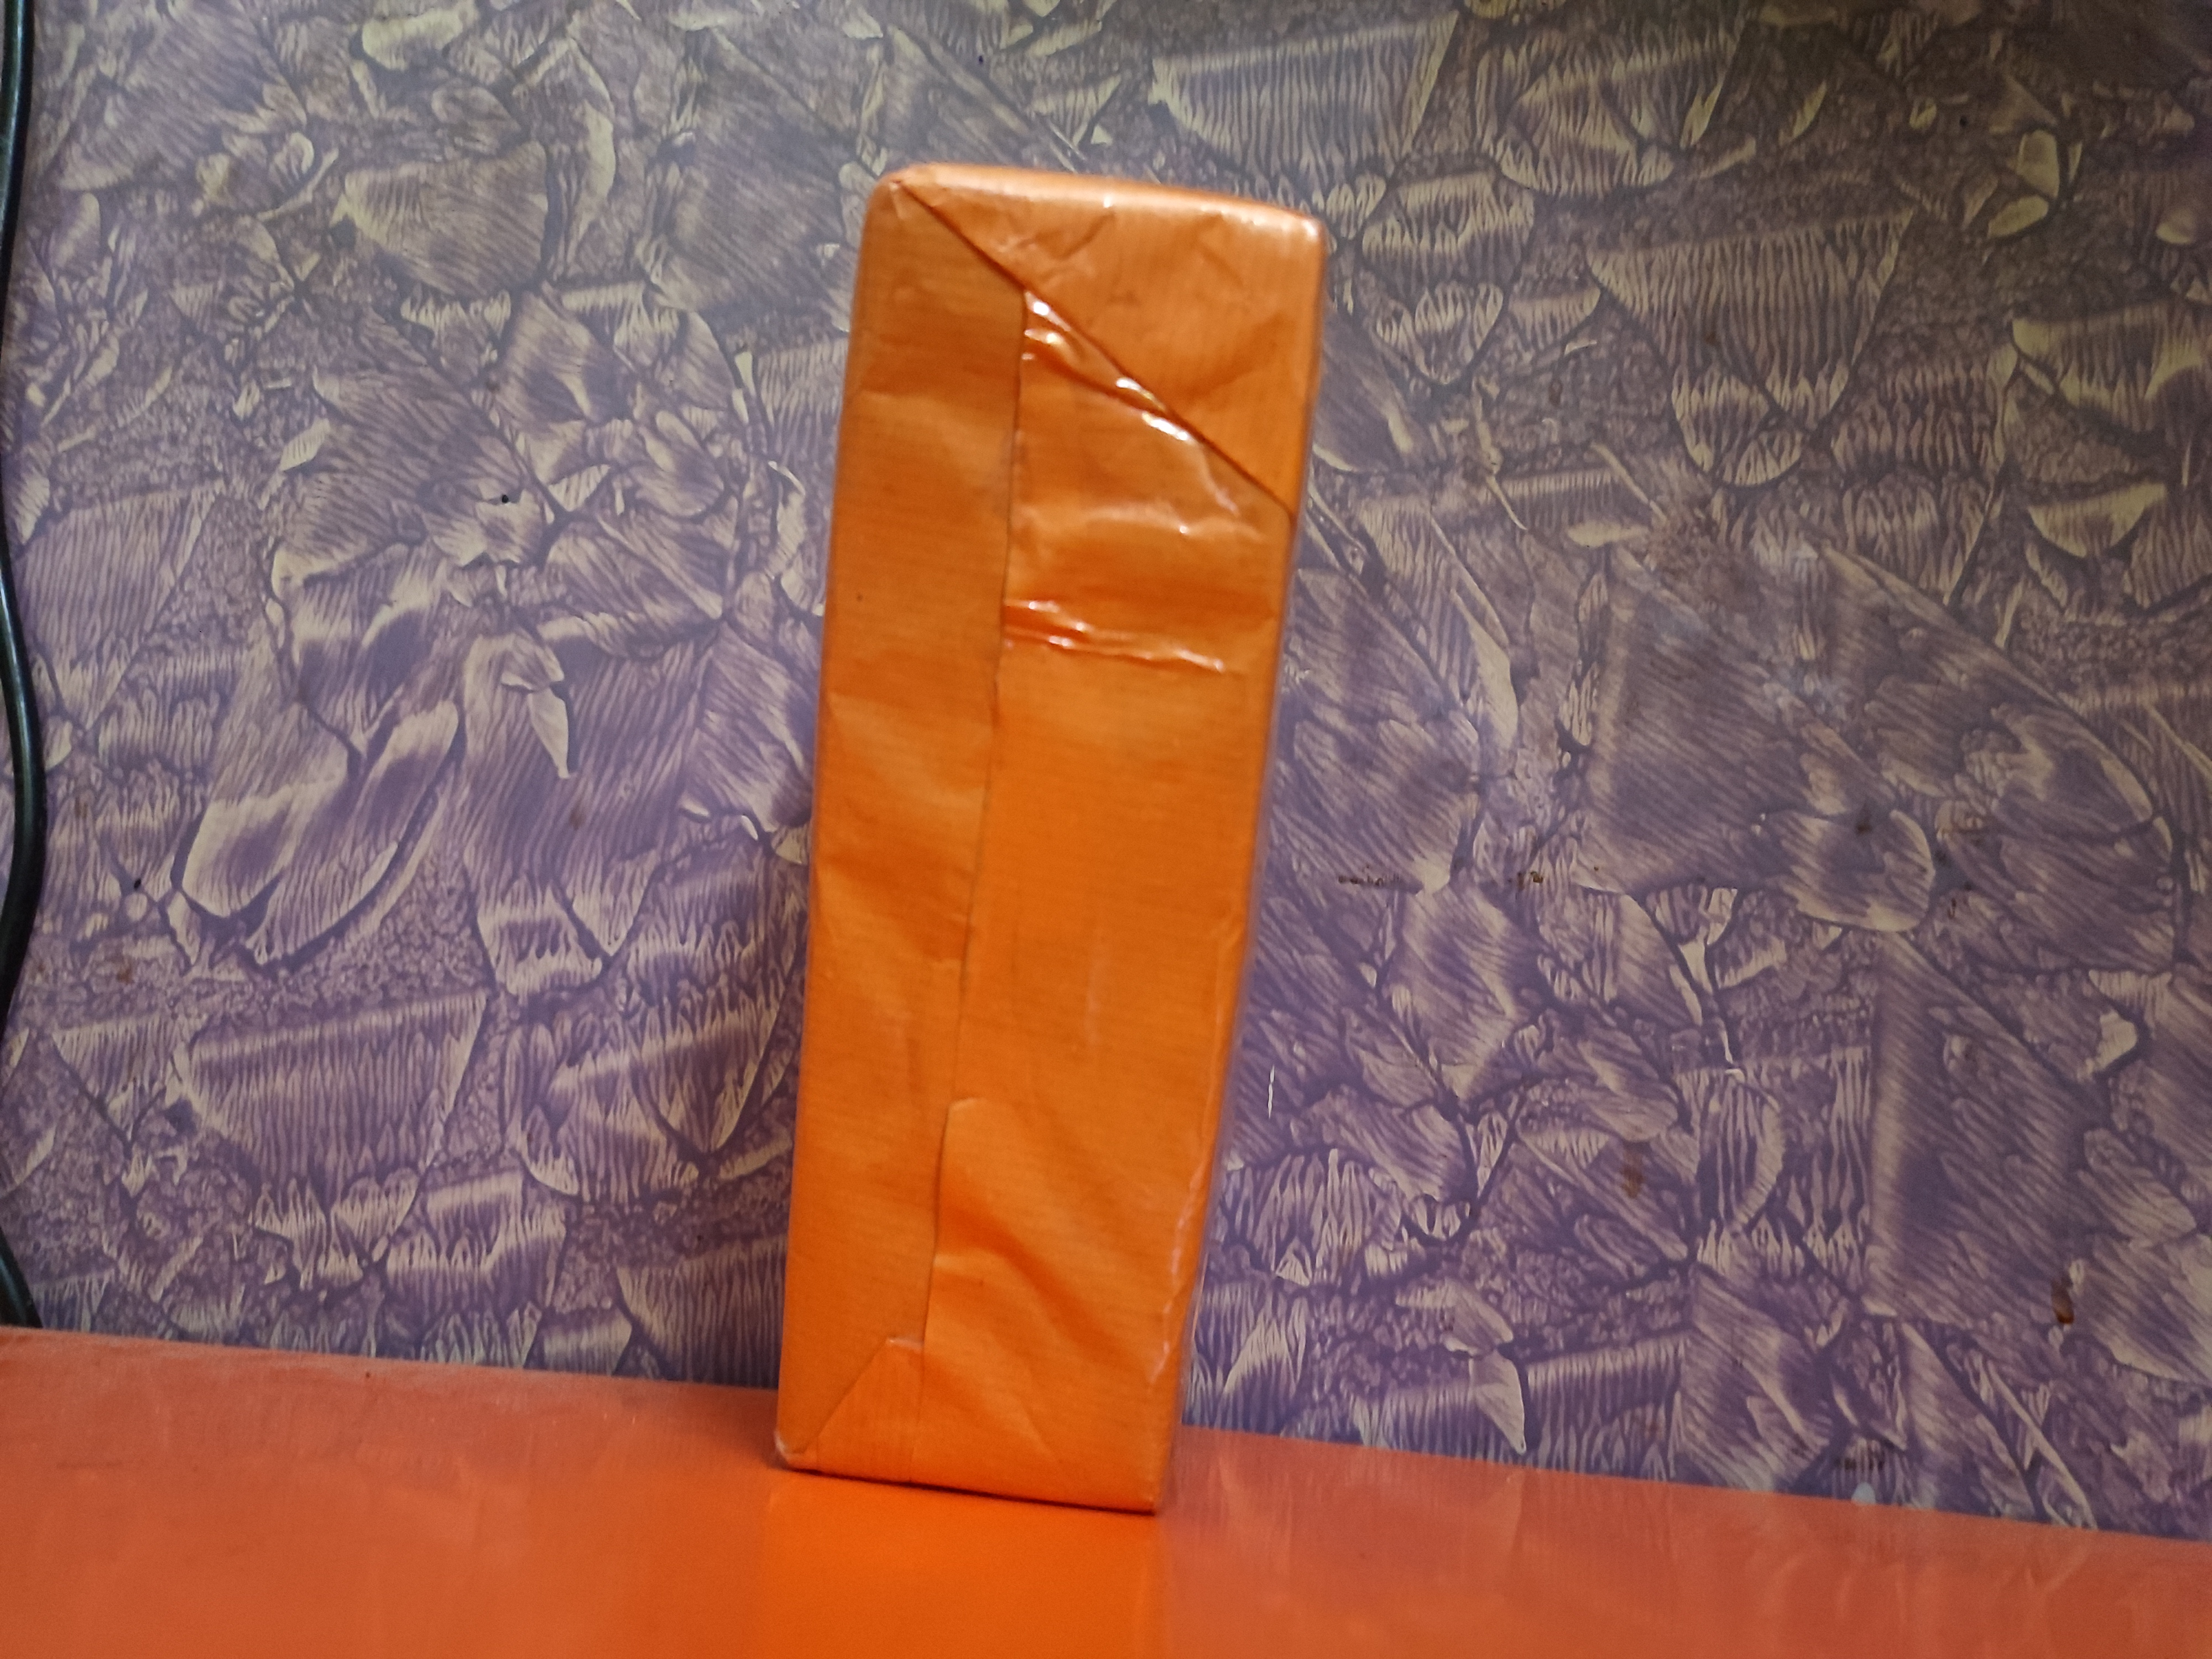Box: (768, 99, 1263, 1485)
